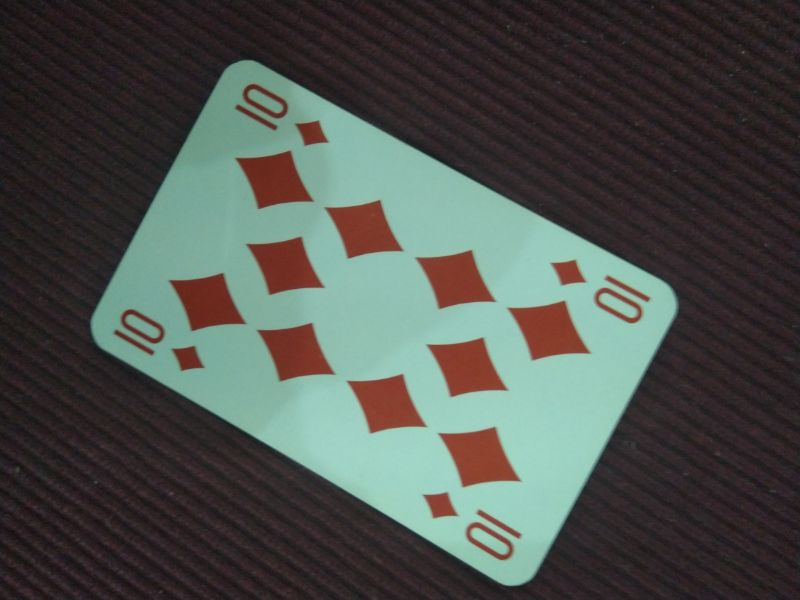Td: (418, 487, 525, 562), (548, 255, 652, 326), (110, 306, 208, 374), (231, 82, 330, 147)
